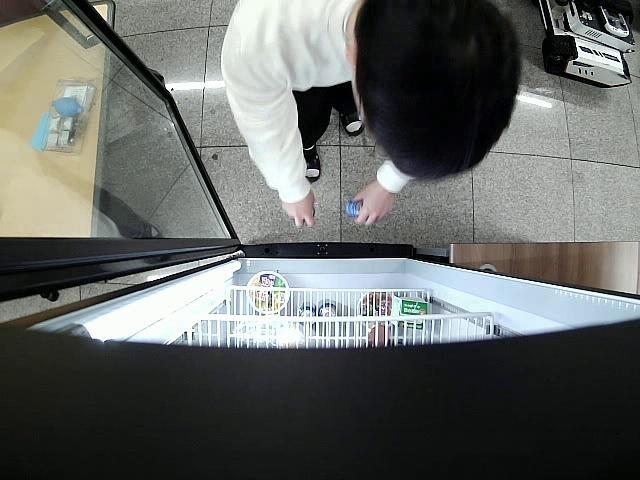15_letsbe: (342, 198, 363, 216)
